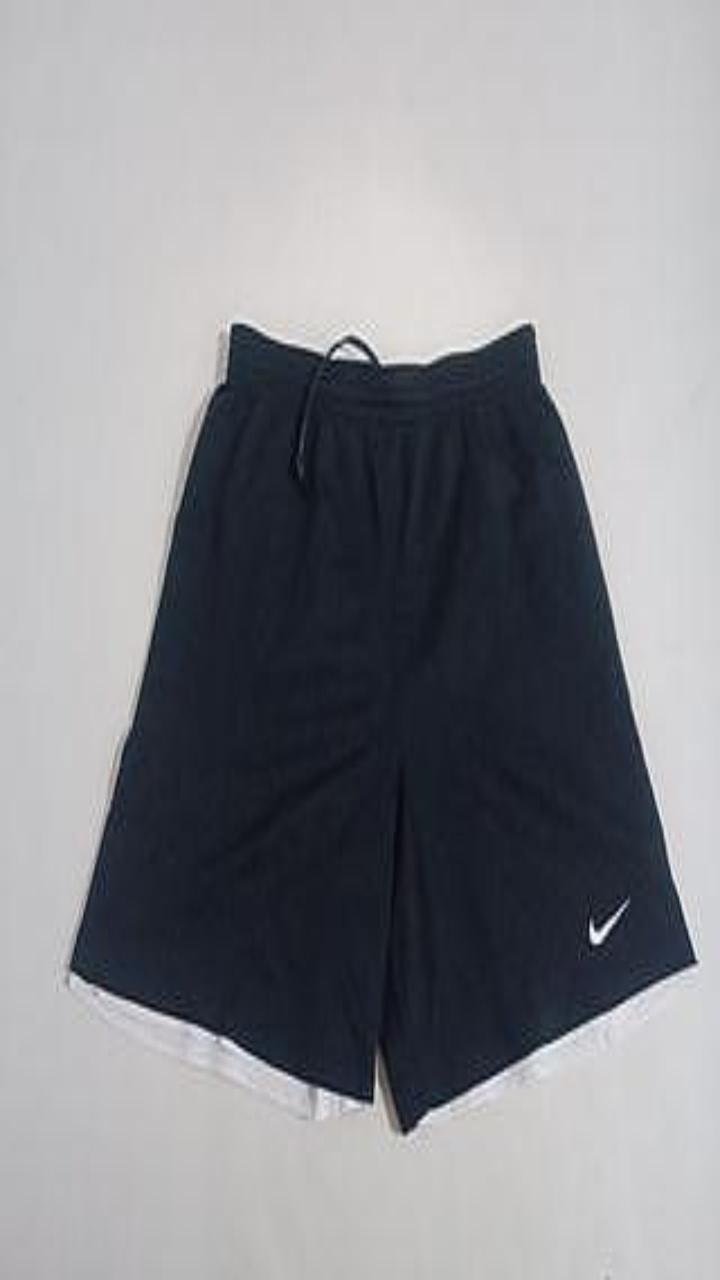Shorts: (67, 323, 694, 1131)
